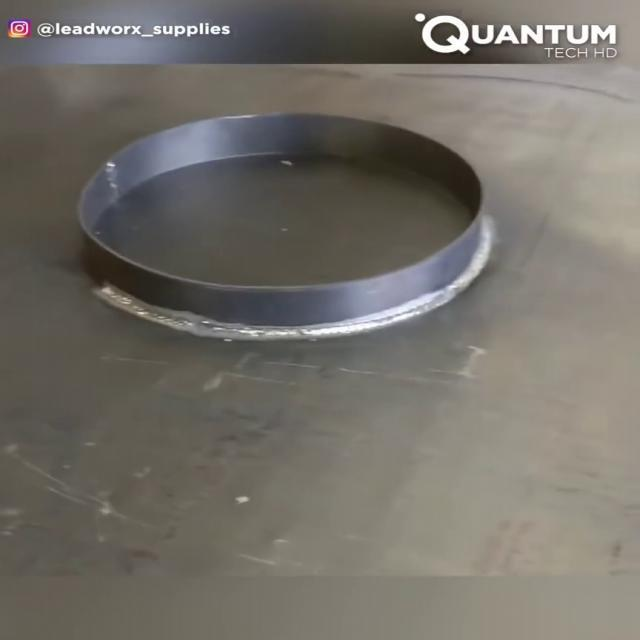Good Weld: (161, 310, 440, 339), (438, 262, 492, 310), (96, 286, 146, 314)
